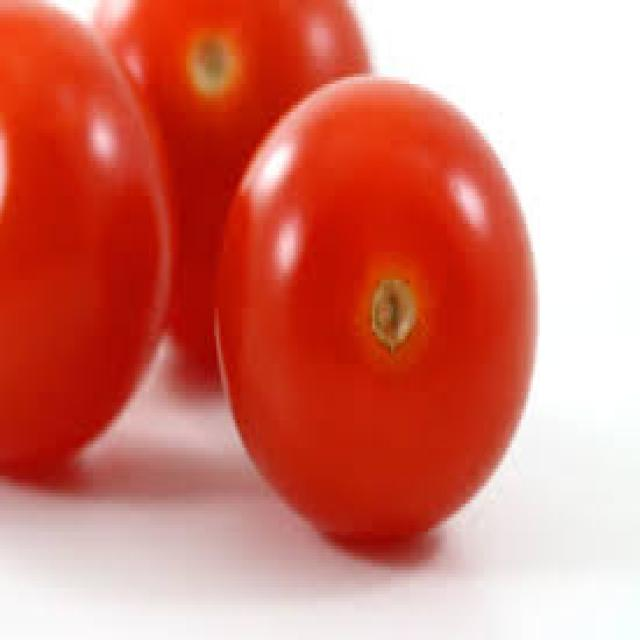Fresh_tomato: (222, 87, 534, 534), (1, 3, 169, 510)
